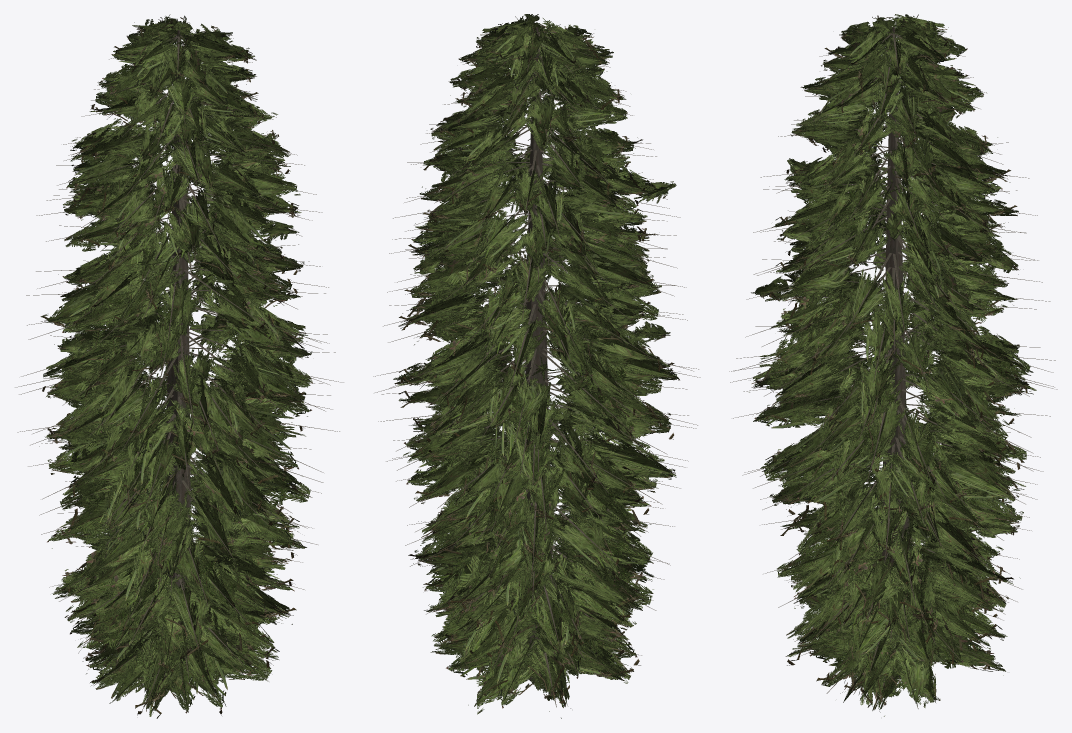
The model's file is conifer_v8_lod1.glb.
3 views of the same model, side by side, from view 1: azimuth 30°, elevation 25°; view 2: azimuth 150°, elevation 25°; view 3: azimuth 270°, elevation 25° (orthographic).
Visible parts, largest first — view 1: conifer_v8_lod1; view 2: conifer_v8_lod1; view 3: conifer_v8_lod1.
Boxes of the visible parts, x1,y1,x2,y2 form: conifer_v8_lod1: [15, 14, 343, 718]; conifer_v8_lod1: [373, 14, 700, 718]; conifer_v8_lod1: [729, 14, 1057, 716].
Bounding box in the file's own units: 8.33 × 18.9 × 8.44.
1 material, 1 textured.
